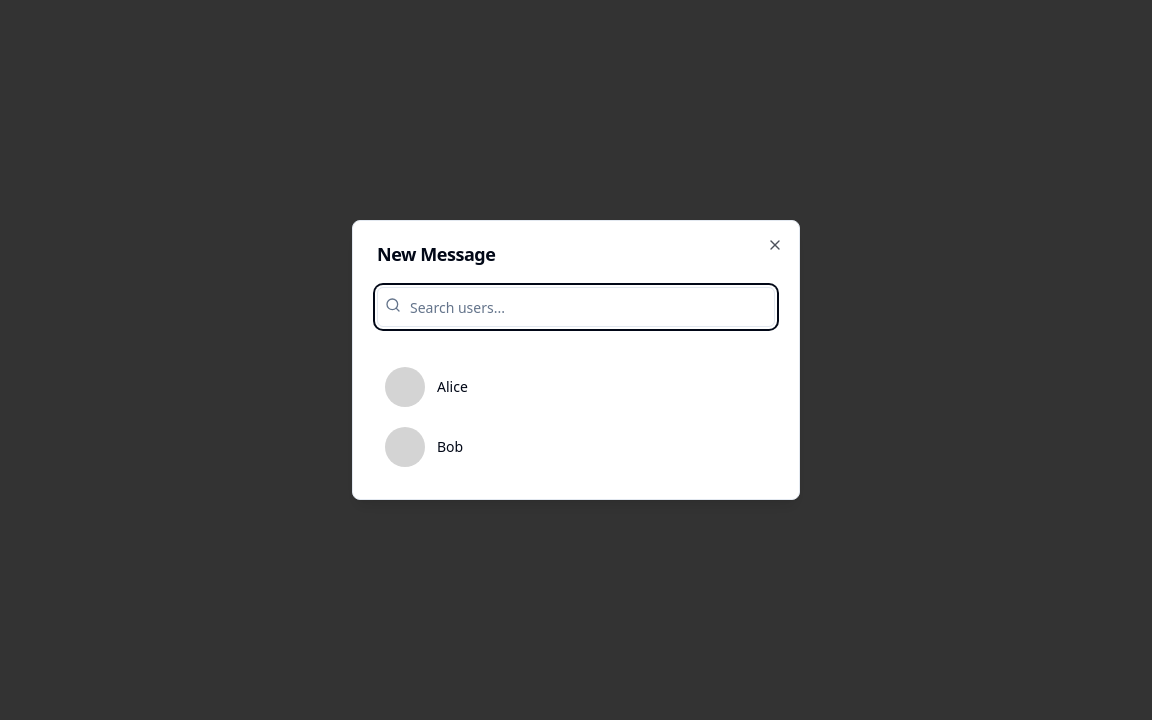
Test: NewDmModal › filters users by search
This screenshot has width=1152, height=720.
Type "Alice" into the field with placeholder "Search users...". click: (576, 307)
box: [377,287,775,327]
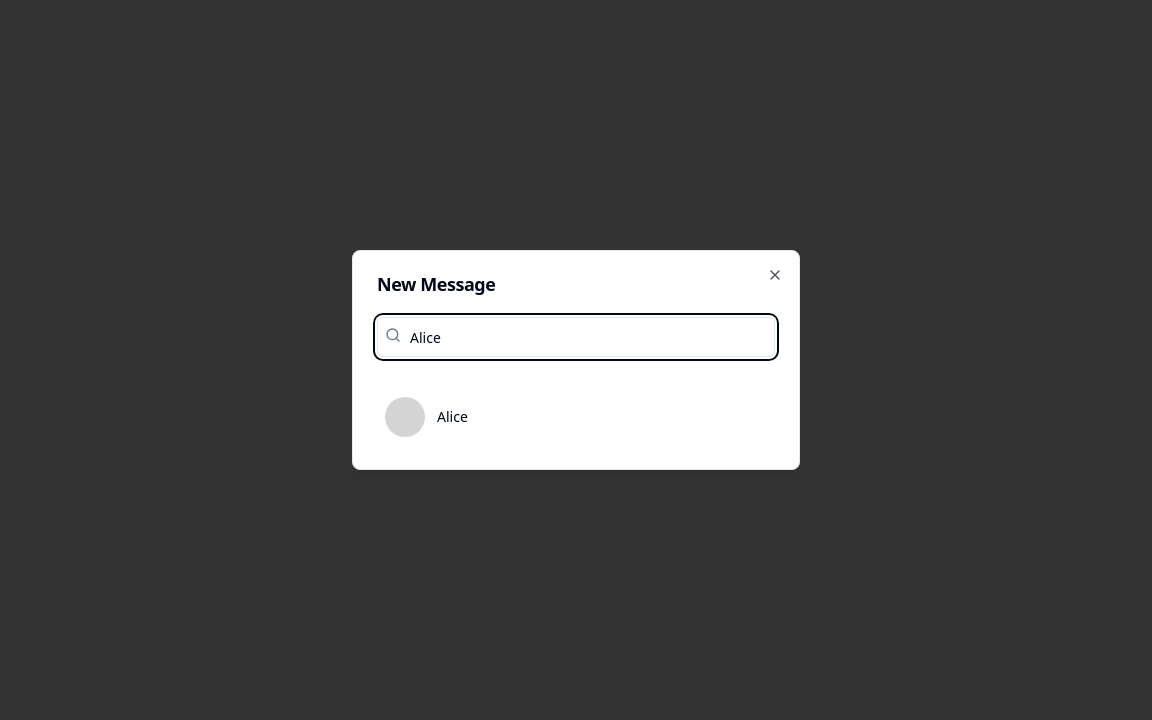
Expected: the text "Alice" is shown, [437,407,468,427]
Expected: the button "Bob" is gone
